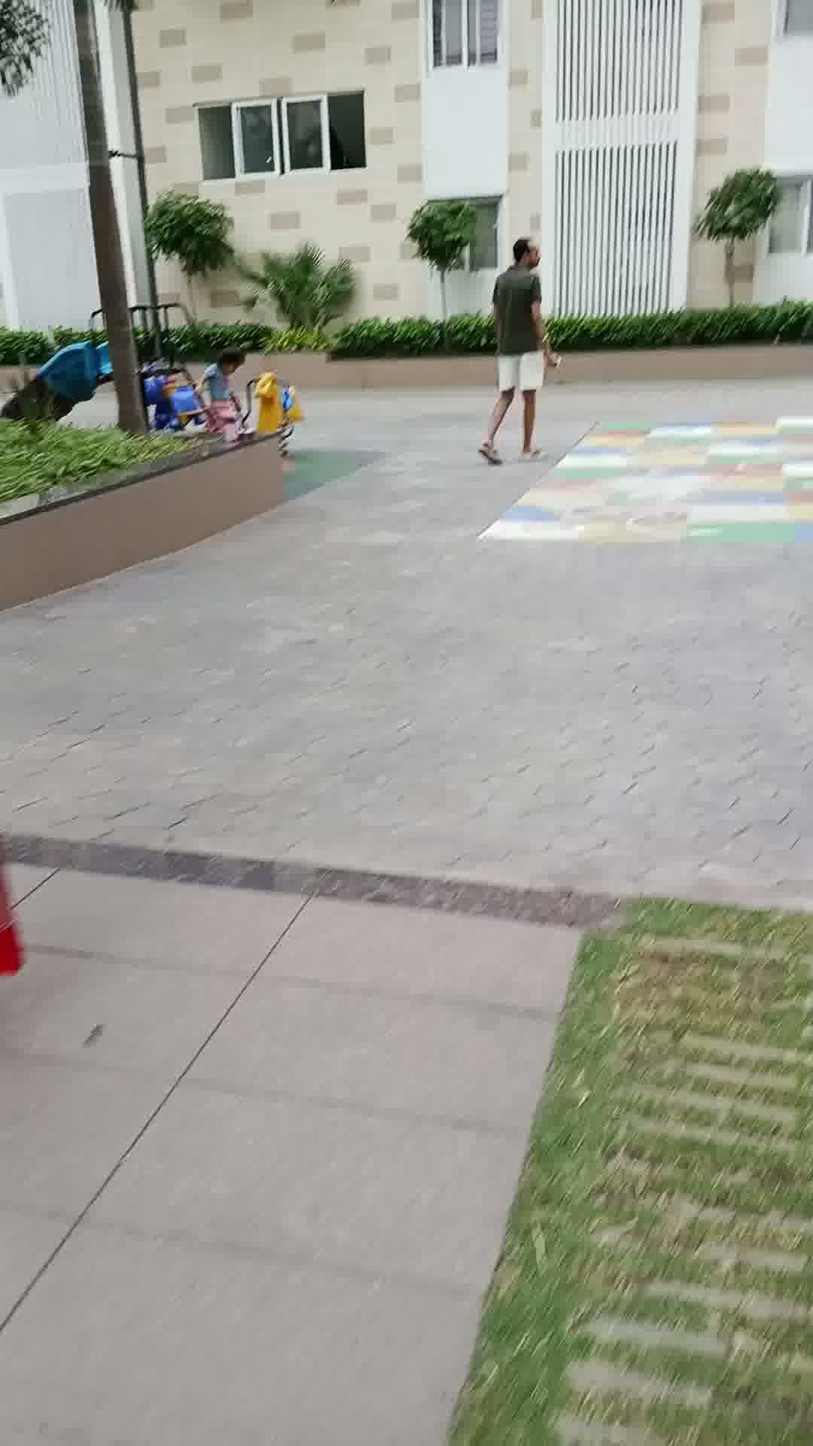person: (469, 176, 578, 478)
tree: (134, 176, 276, 330), (683, 165, 813, 310), (401, 199, 504, 336)
